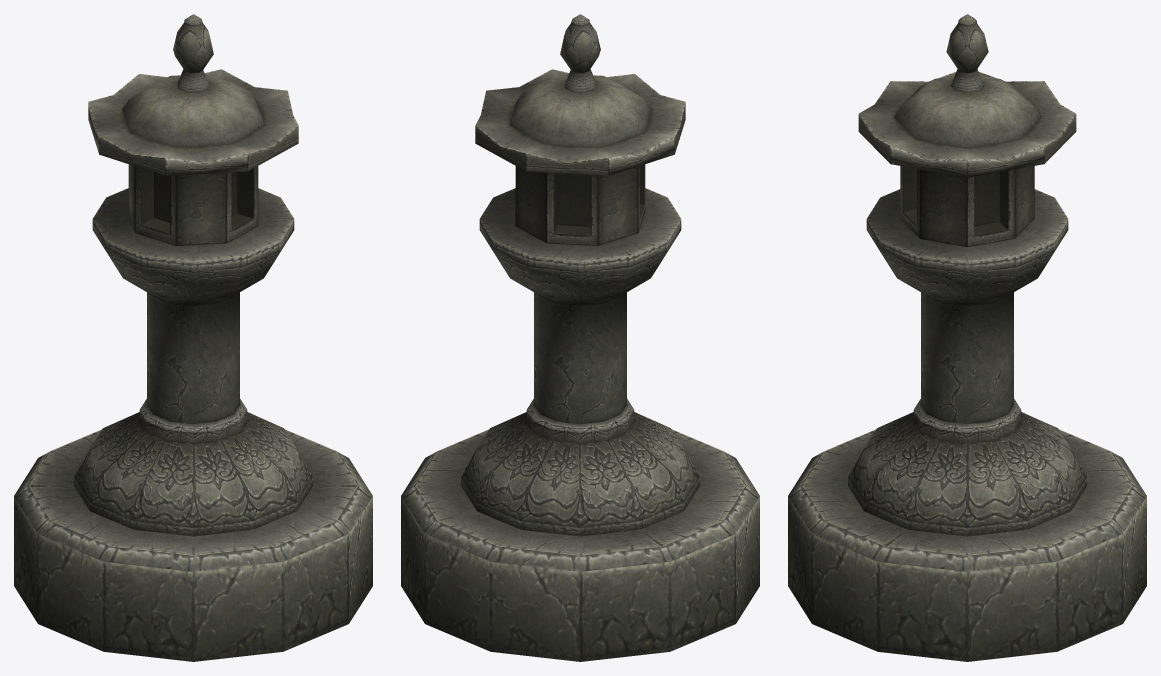
Rendered from dawnmist_light.glb.
The picture shows the model from 3 angles, left to right: view 1: azimuth 30°, elevation 25°; view 2: azimuth 150°, elevation 25°; view 3: azimuth 270°, elevation 25°; orthographic projection.
Visible parts, largest first — view 1: DawnMist_light; view 2: DawnMist_light; view 3: DawnMist_light.
Part boxes in pixels (x1=…): DawnMist_light: x1=14, y1=14, x2=372, y2=661; DawnMist_light: x1=401, y1=14, x2=759, y2=661; DawnMist_light: x1=788, y1=14, x2=1146, y2=661.
Bounding box in the file's own units: 2.23 × 3.93 × 2.23.
Materials: 1 (1 with a texture image).
